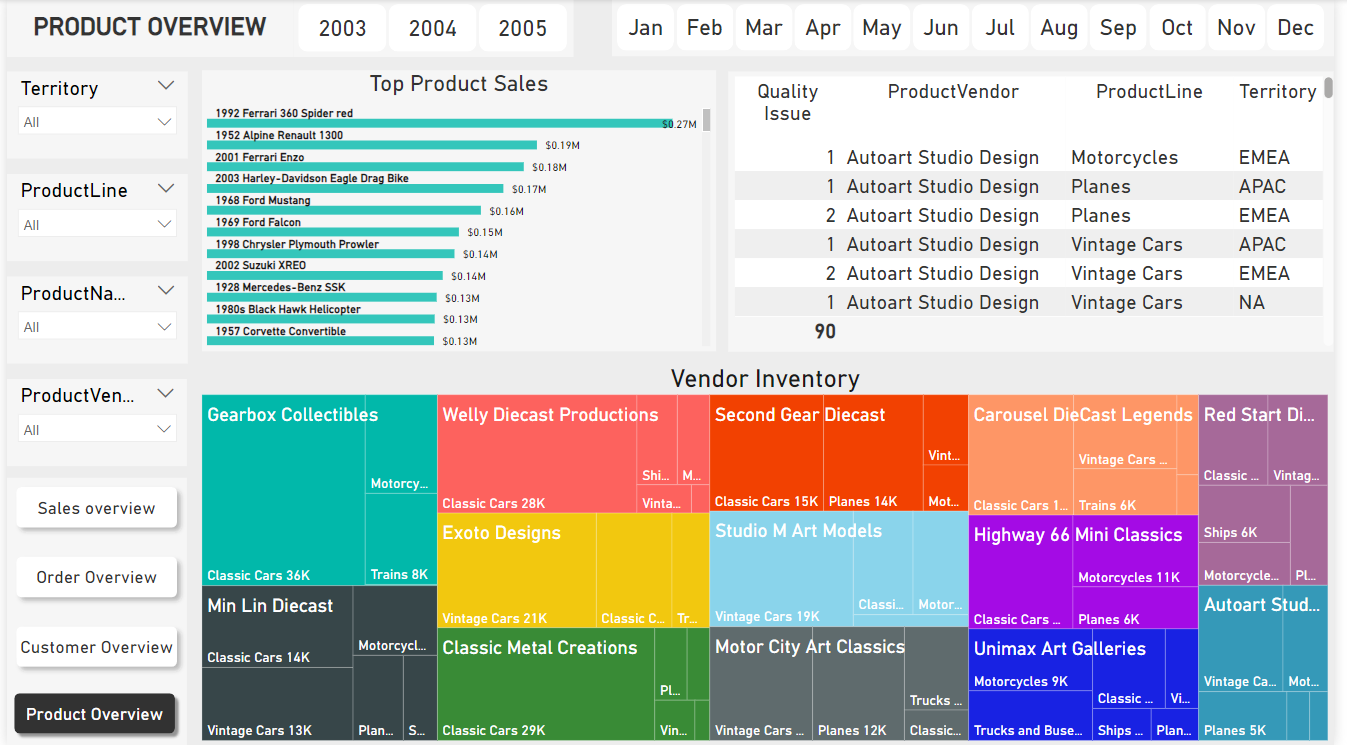

Layout of this report page (visuals, bound fields, positions):
{"tool":"powerbi","page":{"name":"Product Overview","canvas":[1280,720],"ordinal":3},"visuals":[{"type":"textbox","box":[0,0,275.7,55.7],"z":0},{"type":"advancedSlicerVisual","fields":{"Values":["Date.Date.Variation.Date Hierarchy.Year"]},"box":[276.3,0,270.2,56.2],"z":1000},{"type":"advancedSlicerVisual","fields":{"Values":["Date.Month"]},"box":[583.3,0,696.7,55.6],"z":2000},{"type":"slicer","fields":{"Values":["dimoffices.Territory"]},"box":[0,70,174.3,84.3],"z":3000},{"type":"slicer","fields":{"Values":["dimproducts.ProductLine"]},"box":[0,168.6,174.3,84.3],"z":4000},{"type":"slicer","fields":{"Values":["dimproducts.ProductName"]},"box":[0,267.1,174.3,84.3],"z":5000},{"type":"slicer","fields":{"Values":["dimproducts.ProductVendor"]},"box":[0,366.2,173.8,83.8],"z":6000},{"type":"treemap","title":"Vendor Inventory","fields":{"Group":["dimproducts.ProductVendor"],"Details":["dimproducts.ProductLine"],"Values":["Measures (2).Inventory level"]},"box":[183.3,352.2,1096.3,367.8],"z":7000},{"type":"tableEx","fields":{"Values":["Measures (2).Quality Issue","dimproducts.ProductVendor","dimproducts.ProductLine","dimoffices.Territory"]},"box":[695.9,69.9,583.7,270.2],"z":8000},{"type":"clusteredBarChart","title":"Top Product Sales","fields":{"Category":["dimproducts.ProductName"],"Y":["Measures (2).labels placeholder","Measures (2).Total Sales"]},"box":[188.1,68.7,495.7,271.4],"z":9000},{"type":"pageNavigator","box":[0,461.9,173.7,258.1],"z":10000}]}

Visuals, with their boxes in screenshot pixels (x1, y1, x2, y2), scaled from the page's 1280x720 canvas onto the 1347x745 screenshot:
textbox: box=[0, 0, 290, 58]
advancedSlicerVisual - Date.Date.Variation.Date Hierarchy.Year: box=[291, 0, 575, 58]
advancedSlicerVisual - Date.Month: box=[614, 0, 1346, 58]
slicer - dimoffices.Territory: box=[0, 72, 183, 160]
slicer - dimproducts.ProductLine: box=[0, 174, 183, 262]
slicer - dimproducts.ProductName: box=[0, 276, 183, 364]
slicer - dimproducts.ProductVendor: box=[0, 379, 183, 466]
"Vendor Inventory" treemap: box=[193, 364, 1346, 744]
tableEx - Measures (2).Quality Issue x dimproducts.ProductVendor: box=[732, 72, 1346, 352]
"Top Product Sales" clusteredBarChart: box=[198, 71, 720, 352]
pageNavigator: box=[0, 478, 183, 744]
